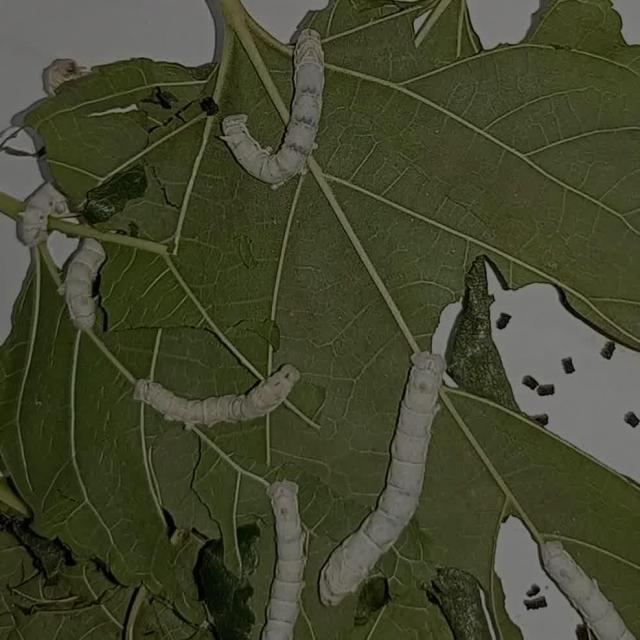Healthy: (0, 36, 150, 341), (315, 324, 456, 640), (211, 7, 367, 214), (99, 352, 341, 438), (525, 517, 640, 640), (247, 460, 311, 640)
